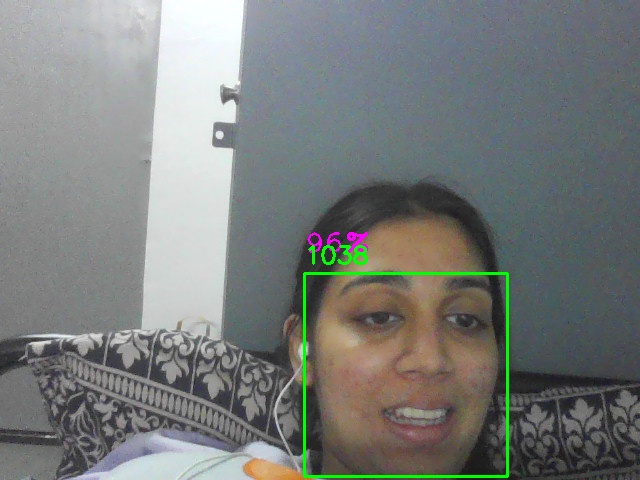real: (304, 273, 508, 477)
